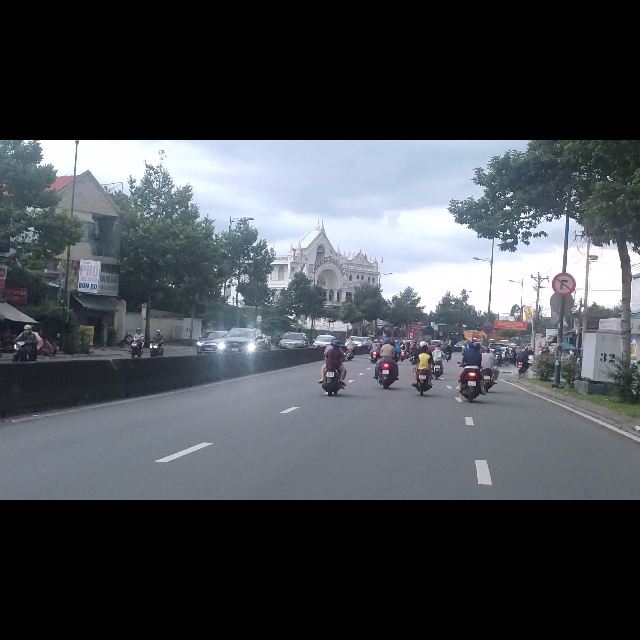bien_cam: (551, 235, 576, 276), (483, 324, 494, 344)
